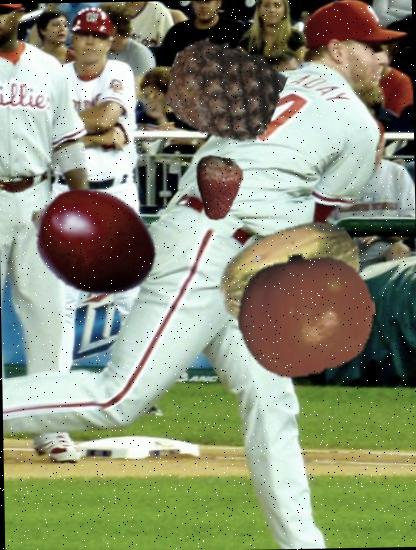Blueberry: (256, 260, 366, 369)
Clementine: (236, 244, 376, 384)
Melon: (214, 201, 362, 349)
Pineapple: (165, 34, 280, 148)
Strawberry: (184, 156, 249, 220)
Tamarillo: (24, 174, 160, 309)
